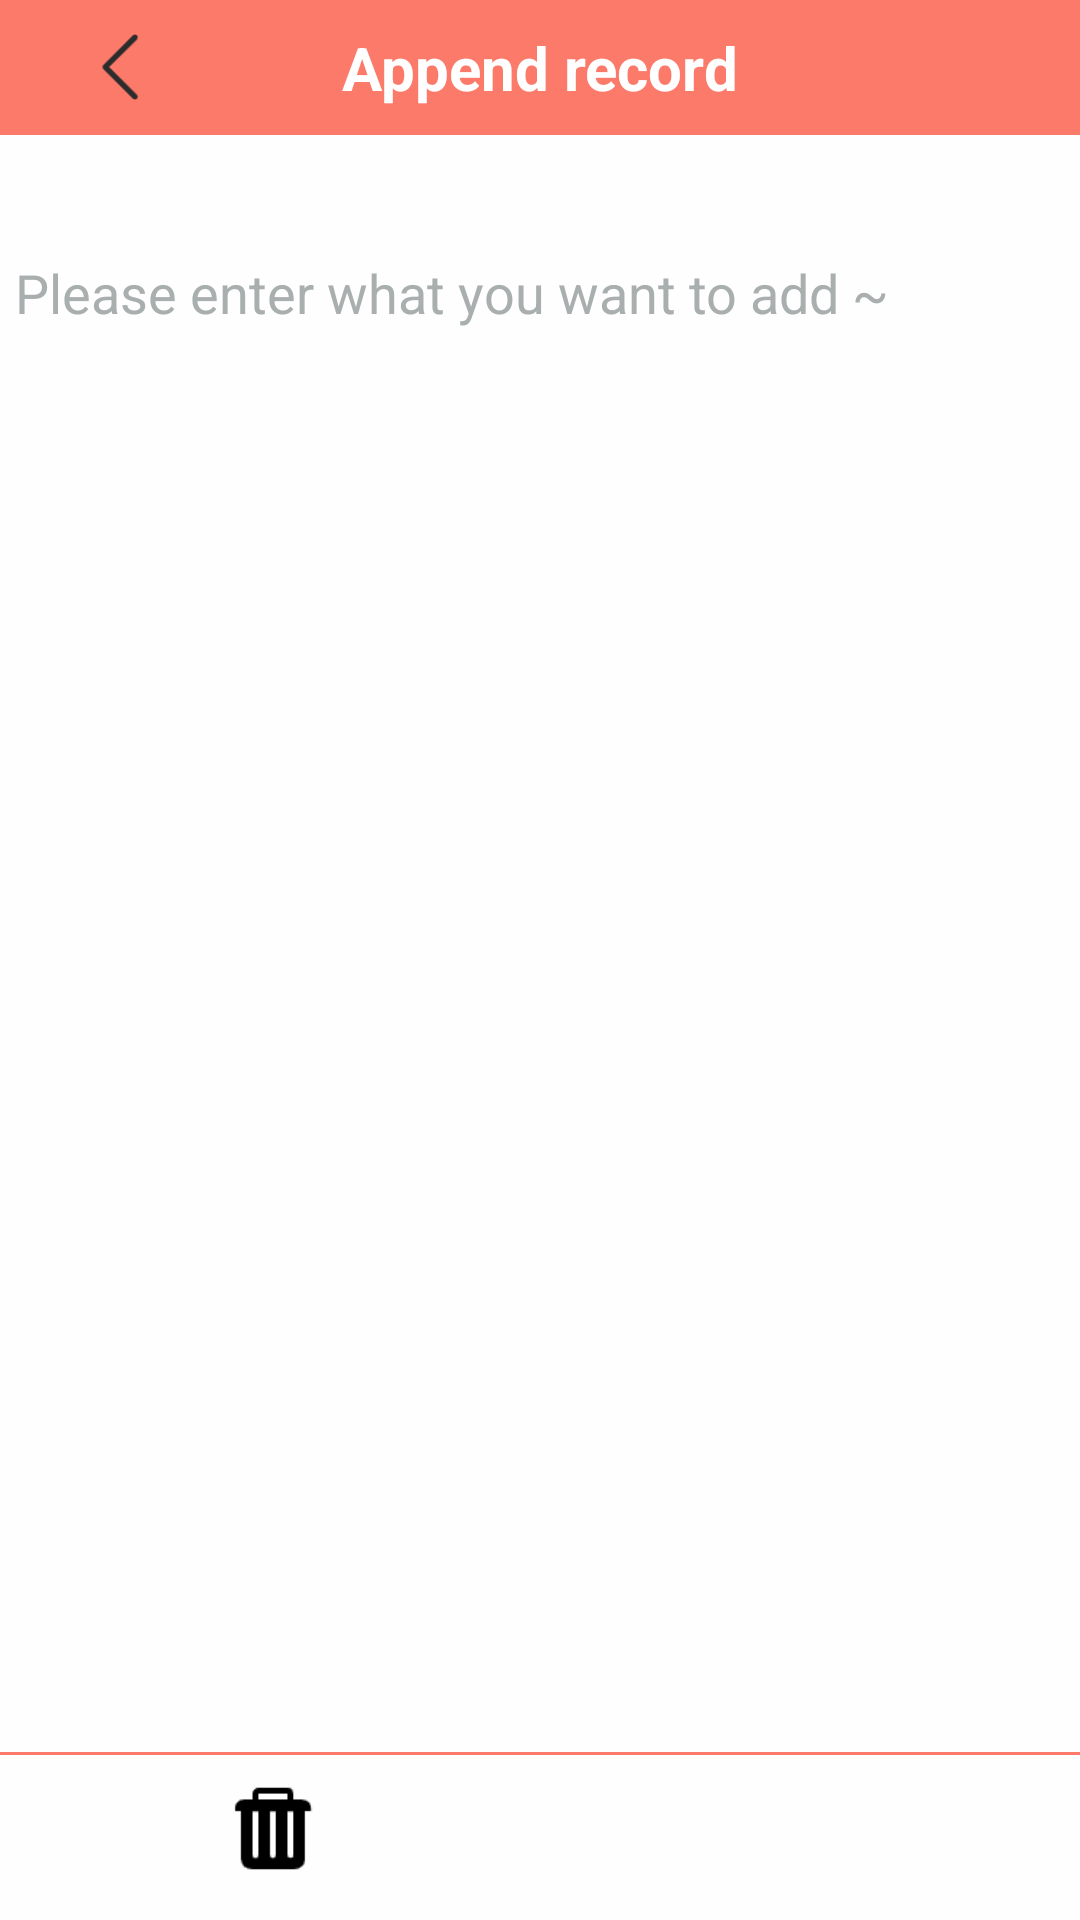

Icon bounding boxes for this 1080*1920 phone screenshot, format region(x1, y1, x2, y2):
back: region(102, 34, 138, 100)
delete: region(235, 1787, 312, 1870)
